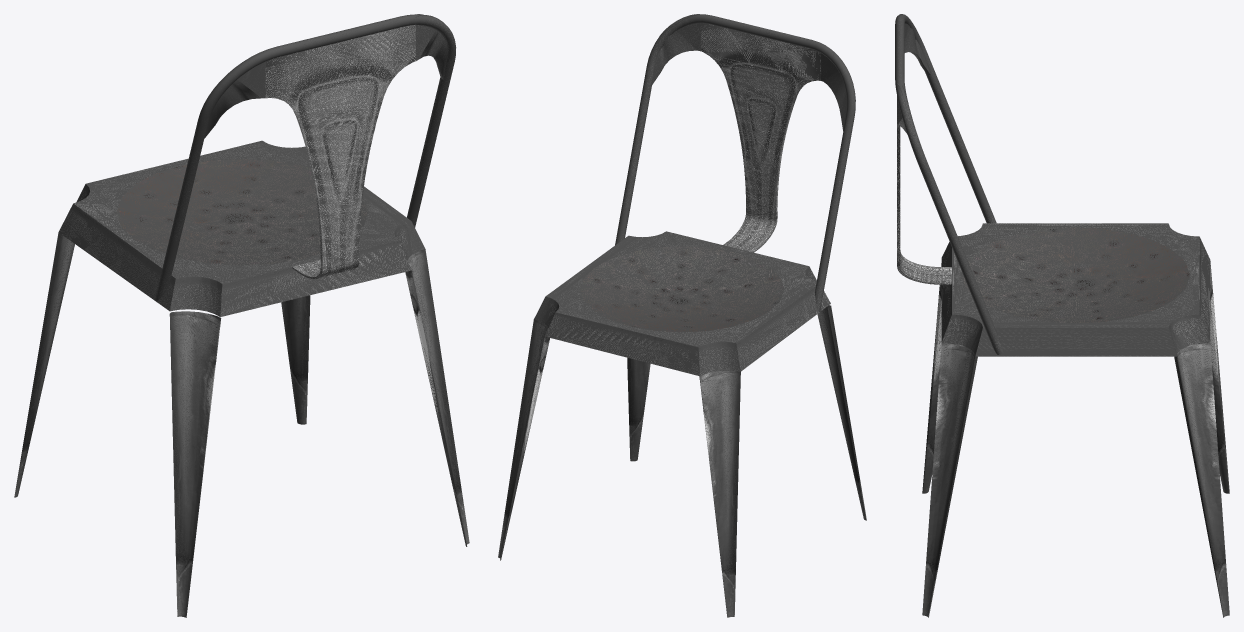
The picture shows the model from 3 angles, left to right: view 1: azimuth 30°, elevation 25°; view 2: azimuth 150°, elevation 25°; view 3: azimuth 270°, elevation 25°; orthographic projection. The views are drawn at different scales.
Parts seen in each view (by area): view 1: mesh4_mesh4-geometry, mesh11_mesh11-geometry, mesh12_mesh12-geometry, mesh10_mesh10-geometry, mesh3_mesh3-geometry, mesh1_mesh1-geometry, mesh2_mesh2-geometry, mesh8_mesh8-geometry, mesh5_mesh5-geometry; view 2: mesh4_mesh4-geometry, mesh11_mesh11-geometry, mesh1_mesh1-geometry, mesh10_mesh10-geometry, mesh2_mesh2-geometry, mesh12_mesh12-geometry, mesh3_mesh3-geometry, mesh5_mesh5-geometry, mesh8_mesh8-geometry; view 3: mesh4_mesh4-geometry, mesh2_mesh2-geometry, mesh3_mesh3-geometry, mesh10_mesh10-geometry, mesh1_mesh1-geometry, mesh12_mesh12-geometry, mesh11_mesh11-geometry, mesh8_mesh8-geometry.
Boxes of the visible parts, x1,y1,x2,y2 form: mesh4_mesh4-geometry: (58, 140, 425, 316); mesh11_mesh11-geometry: (265, 24, 415, 278); mesh12_mesh12-geometry: (169, 311, 221, 617); mesh10_mesh10-geometry: (155, 14, 456, 301); mesh3_mesh3-geometry: (405, 249, 469, 546); mesh1_mesh1-geometry: (14, 232, 74, 497); mesh2_mesh2-geometry: (281, 295, 310, 424); mesh8_mesh8-geometry: (204, 61, 265, 138); mesh5_mesh5-geometry: (416, 14, 447, 79); mesh4_mesh4-geometry: (534, 231, 830, 376); mesh11_mesh11-geometry: (701, 23, 820, 252); mesh1_mesh1-geometry: (699, 370, 740, 617); mesh10_mesh10-geometry: (615, 14, 855, 311); mesh2_mesh2-geometry: (498, 319, 549, 560); mesh12_mesh12-geometry: (817, 305, 866, 520); mesh3_mesh3-geometry: (627, 358, 650, 461); mesh5_mesh5-geometry: (651, 14, 700, 85); mesh8_mesh8-geometry: (821, 53, 847, 130); mesh4_mesh4-geometry: (941, 223, 1210, 356); mesh2_mesh2-geometry: (1174, 342, 1229, 617); mesh3_mesh3-geometry: (922, 342, 977, 617); mesh10_mesh10-geometry: (895, 14, 1002, 354); mesh1_mesh1-geometry: (1210, 261, 1229, 493); mesh12_mesh12-geometry: (922, 263, 941, 493); mesh11_mesh11-geometry: (897, 123, 951, 284); mesh8_mesh8-geometry: (904, 23, 930, 75).
Size of the model in its own units: 0.4241 by 0.7776 by 0.4642.
Materials: 9 (7 with a texture image).
